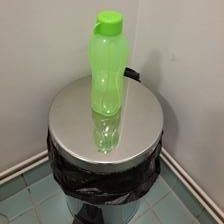bottle: (87, 9, 132, 117)
